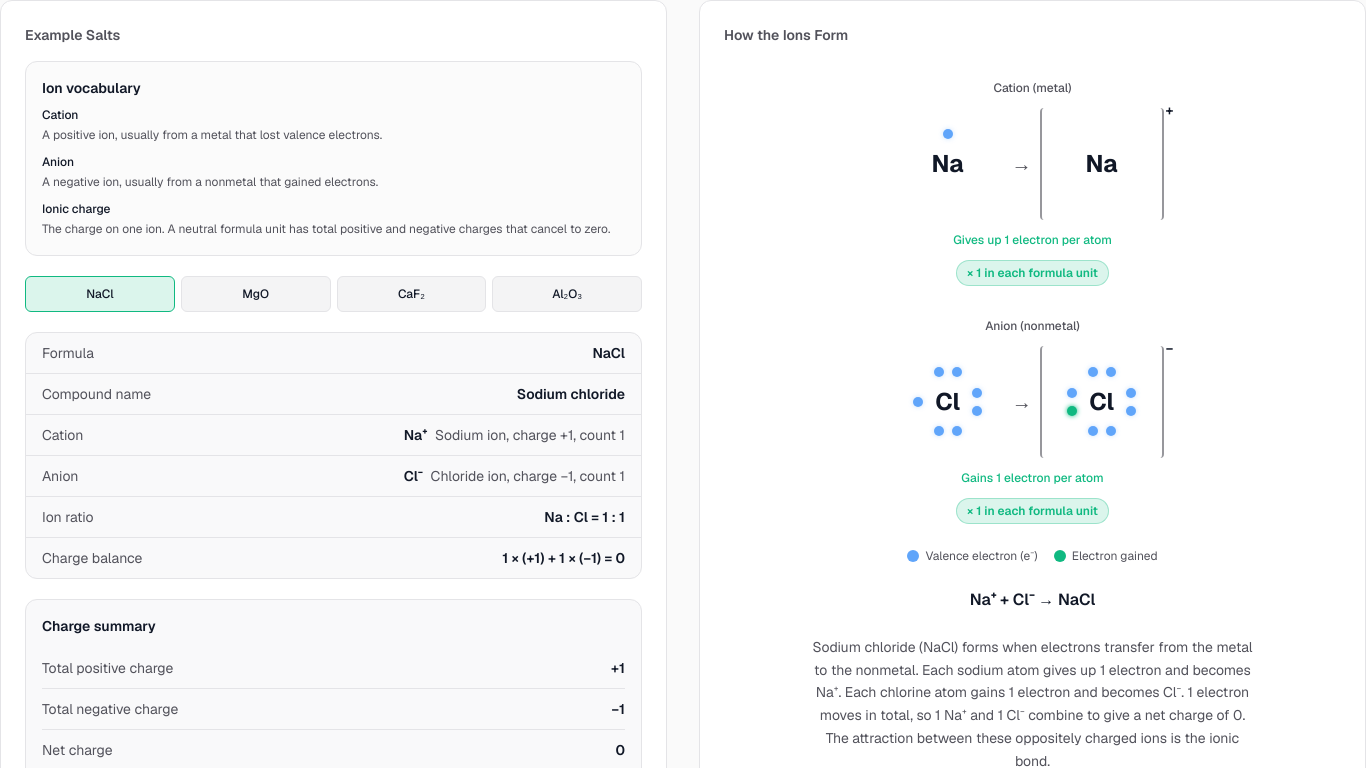
IonicCompoundExplorer › shows matching details for Calcium fluoride
The width and height of the screenshot is (1366, 768).
Click the button with aria-label "Calcium fluoride, CaF2": (411, 294) [336,276,486,312]
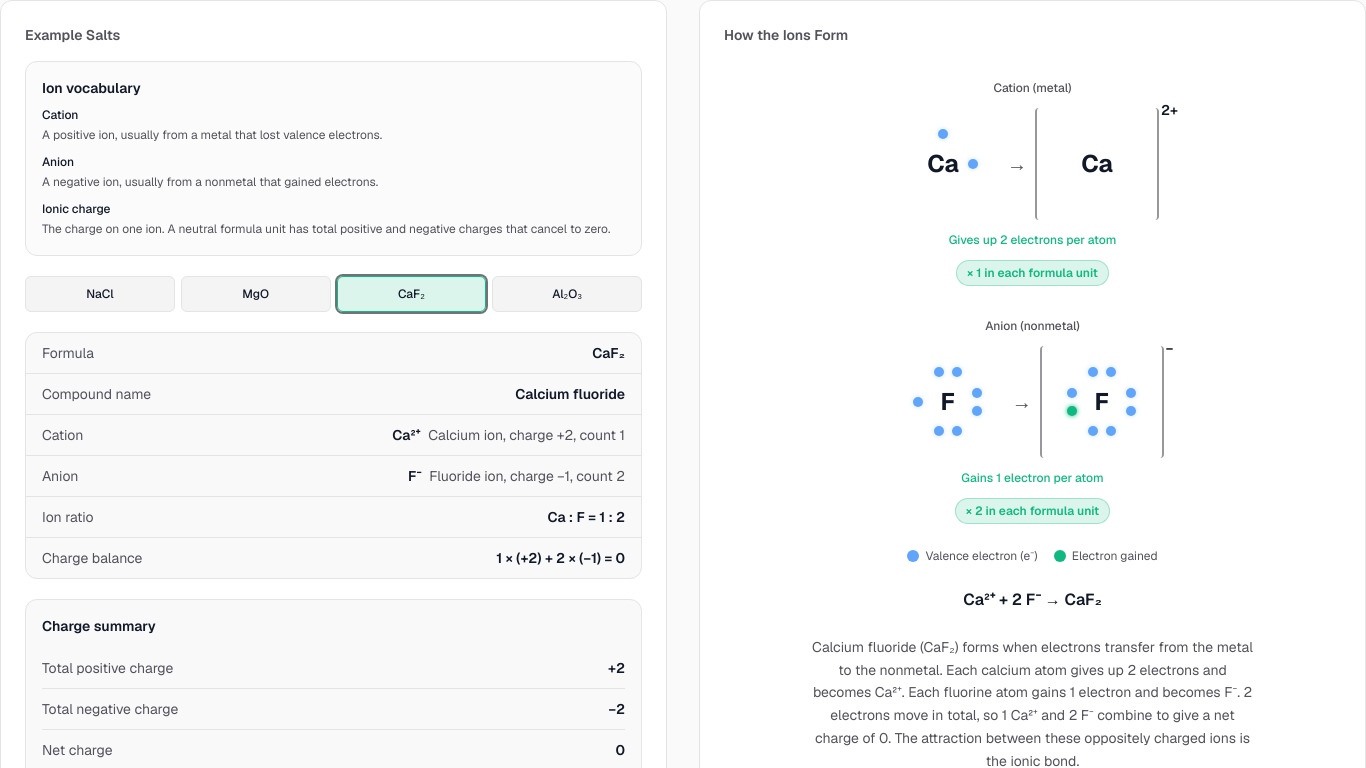
Expected: the text "0" is shown, [615,740,625,760]
Now the text "Calcium fluoride" is shown, box [515,384,625,404]
Now the text "Ca : F = 1 : 2" is shown, box [547,507,625,527]
